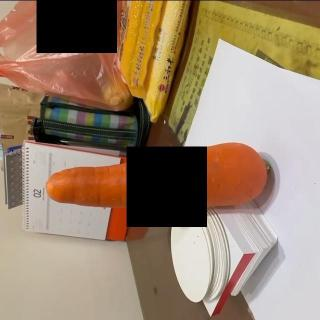carrot: (47, 138, 273, 210)
